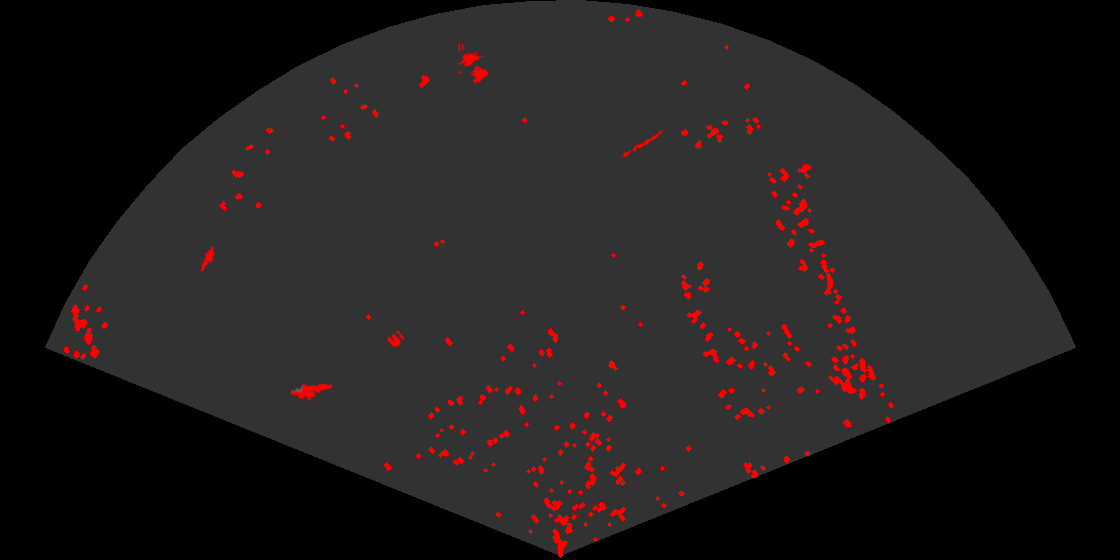ball: (386, 329, 406, 349)
cage: (458, 44, 490, 85)
chain: (620, 127, 670, 160)
frogman: (291, 382, 333, 403), (200, 247, 216, 272)
